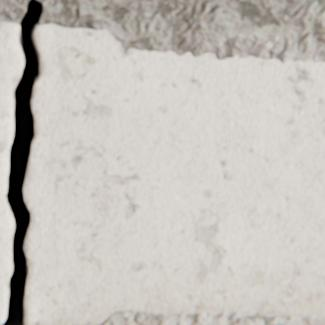broken_brick: (24, 24, 324, 324), (0, 22, 22, 322)
crack: (0, 0, 42, 324)
